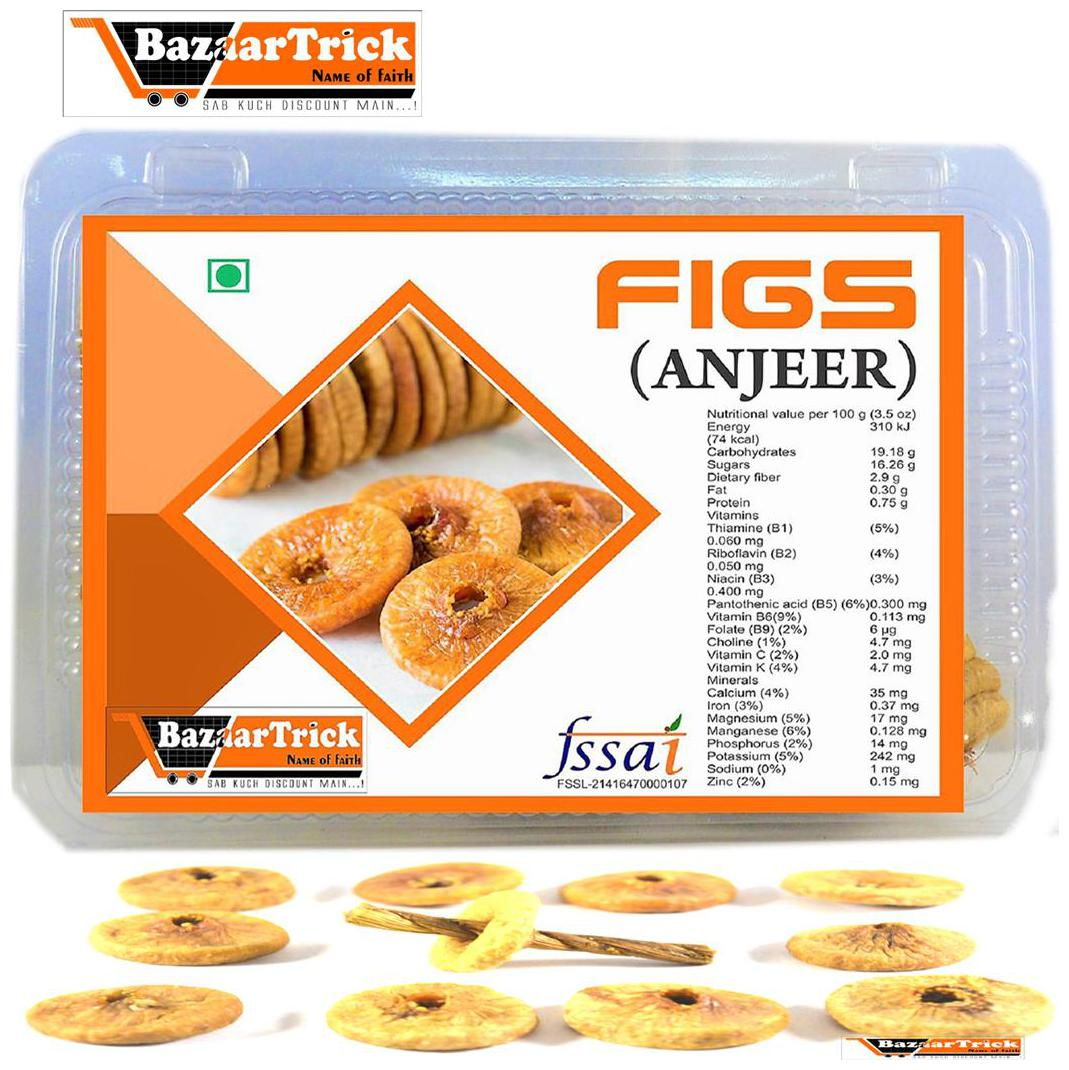fssai: (539, 714, 696, 776)
